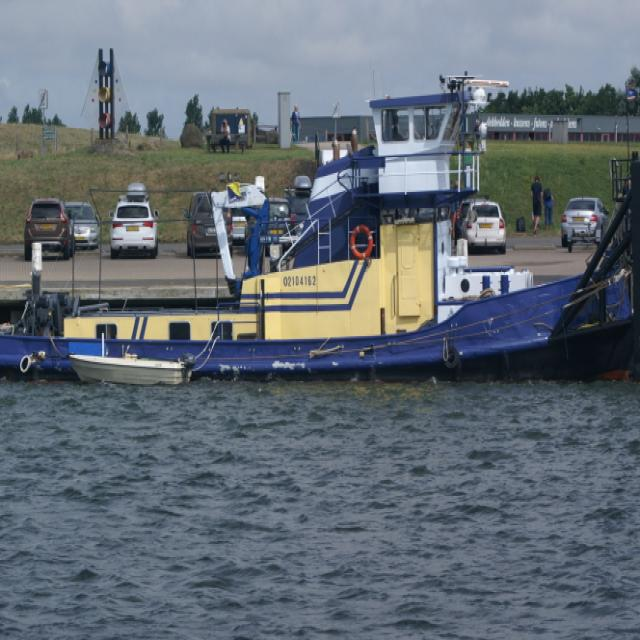tugboat: (1, 67, 640, 414)
